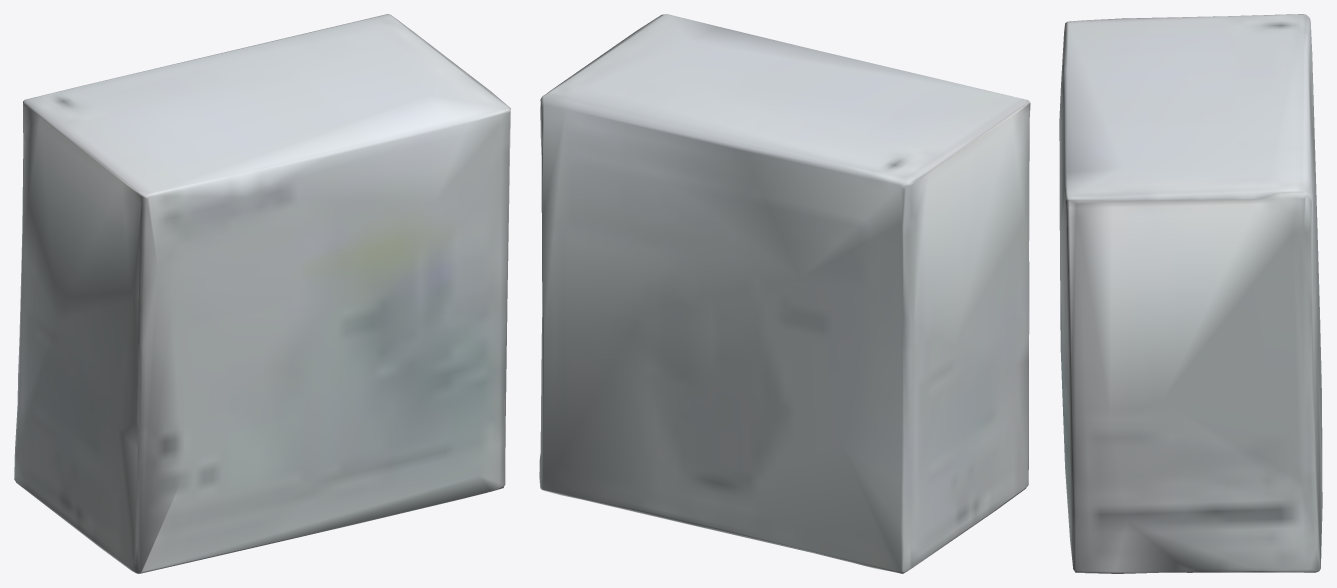
File: Perricone_MD_OVM-medium.glb
3 renders of one model, left to right at view 1: azimuth 30°, elevation 25°; view 2: azimuth 150°, elevation 25°; view 3: azimuth 270°, elevation 25°, orthographic.
Visible parts, largest first — view 1: Perricone_MD_OVM; view 2: Perricone_MD_OVM; view 3: Perricone_MD_OVM.
Part boxes in pixels (<box>): Perricone_MD_OVM: <box>14,14,510,573</box>; Perricone_MD_OVM: <box>539,14,1030,573</box>; Perricone_MD_OVM: <box>1059,14,1322,573</box>.
Bounding box in the file's own units: 0.1046 × 0.1047 × 0.0644.
Materials: 1 (1 with a texture image).
